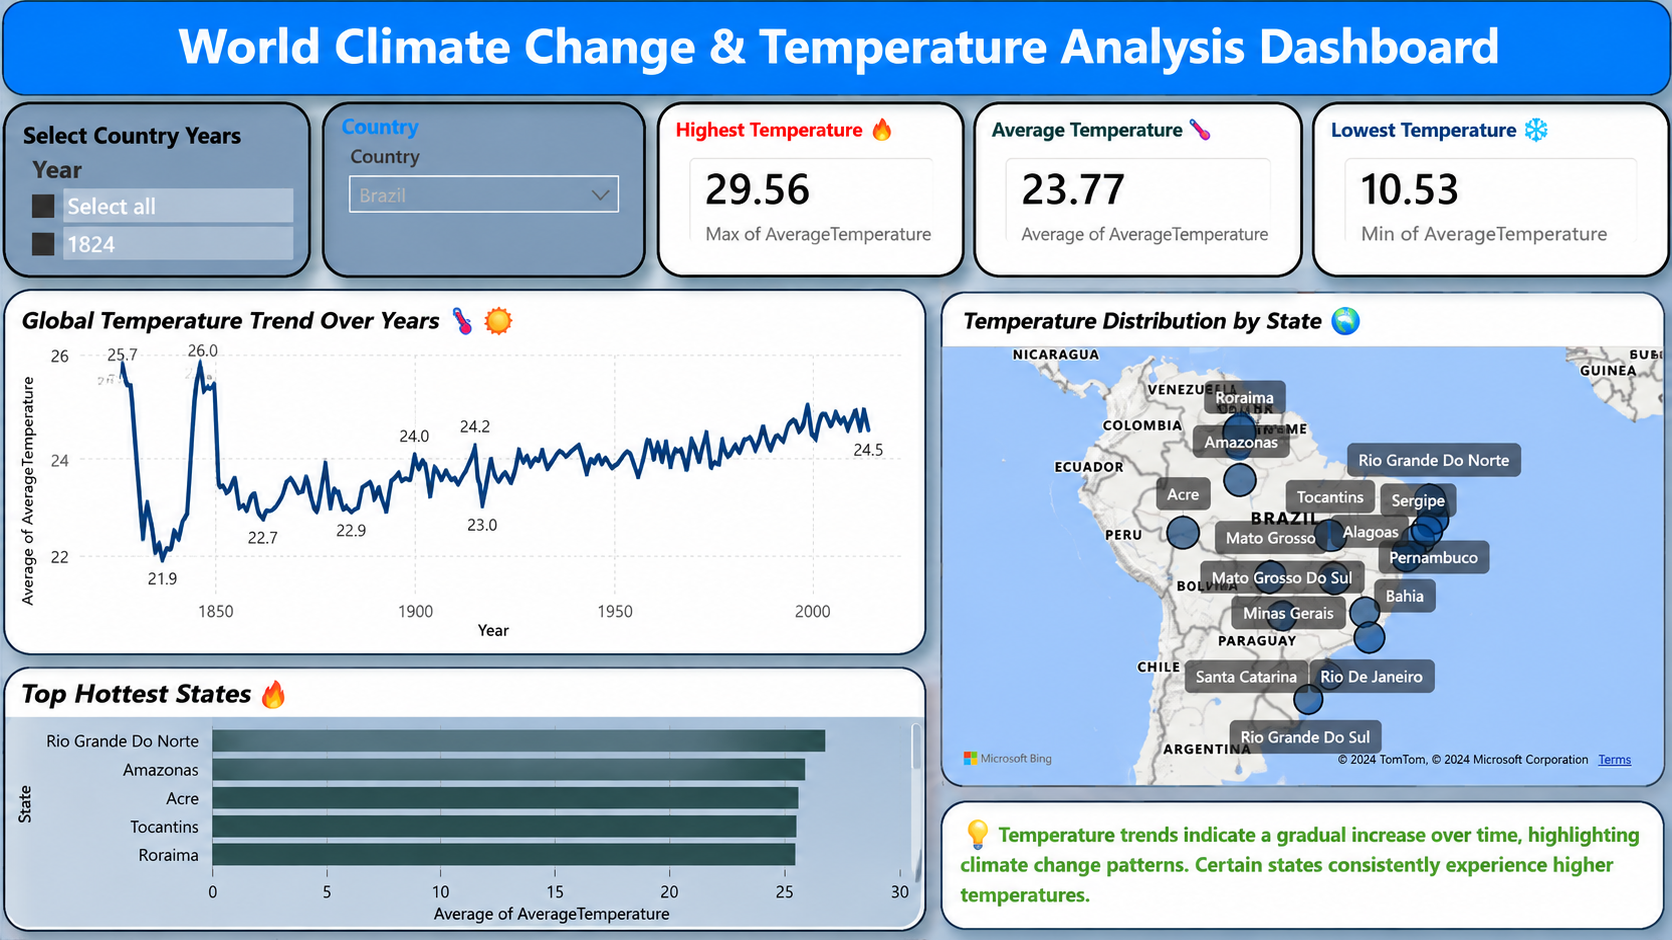

The page's visual inventory and layout, read from the dashboard file:
{"tool":"powerbi","page":{"name":"Page 1","canvas":[1280,720],"ordinal":0},"visuals":[{"type":"lineChart","title":"Global Temperature Trend Over Years🌡️☀️","fields":{"Category":["GlobalLandTemperaturesByState.Year"],"Y":["Avg(GlobalLandTemperaturesByState.AverageTemperature)"]},"box":[0,222.5,698.8,275],"z":0},{"type":"barChart","title":"Top Hottest States🔥","fields":{"Category":["GlobalLandTemperaturesByState.State"],"Y":["Avg(GlobalLandTemperaturesByState.AverageTemperature)"]},"box":[0,510,698.8,210],"z":1000},{"type":"map","title":"Temperature Distribution by State🌏","fields":{"Category":["GlobalLandTemperaturesByState.State"],"Size":["Avg(GlobalLandTemperaturesByState.AverageTemperature)"]},"box":[715.3,222.6,564.9,407.4],"z":2000},{"type":"cardVisual","title":"Highest Temperature 🔥","fields":{"Data":["Max(GlobalLandTemperaturesByState.AverageTemperature)"]},"box":[502.5,78.8,231.2,135],"z":3000},{"type":"cardVisual","title":"Lowest Temperature❄️","fields":{"Data":["Min(GlobalLandTemperaturesByState.AverageTemperature)"]},"box":[1002.5,78.8,277.5,135],"z":4000},{"type":"slicer","title":"Country","fields":{"Values":["GlobalLandTemperaturesByState.Country"]},"box":[243.8,78.8,247.5,135],"z":5000},{"type":"textbox","box":[0,0,1280.2,73.4],"z":6000},{"type":"slicer","fields":{"Values":["GlobalLandTemperaturesByState.Year"]},"box":[0,78.8,233.8,135],"z":7000},{"type":"textbox","box":[716.5,640.7,557.8,79.3],"z":8000},{"type":"cardVisual","title":"Average Temperature🌡️","fields":{"Data":["Avg(GlobalLandTemperaturesByState.AverageTemperature)"]},"box":[742.5,78.8,252.5,135],"z":9000}]}

Visuals, with their boxes in screenshot pixels (x1, y1, x2, y2), scaled from the page's 1280x720 canvas onto the 1672x940 screenshot:
"Global Temperature Trend Over Years🌡️☀️" lineChart: 0, 290, 913, 650
"Top Hottest States🔥" barChart: 0, 666, 913, 939
"Temperature Distribution by State🌏" map: 934, 291, 1671, 822
"Highest Temperature 🔥" cardVisual: 656, 103, 958, 279
"Lowest Temperature❄️" cardVisual: 1310, 103, 1671, 279
"Country" slicer: 318, 103, 642, 279
textbox: 0, 0, 1671, 96
slicer - GlobalLandTemperaturesByState.Year: 0, 103, 305, 279
textbox: 936, 836, 1665, 939
"Average Temperature🌡️" cardVisual: 970, 103, 1300, 279
